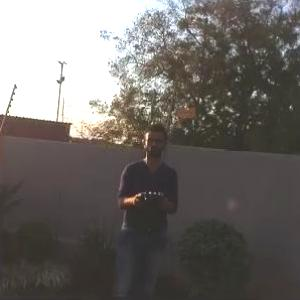follow: (111, 116, 182, 299)
